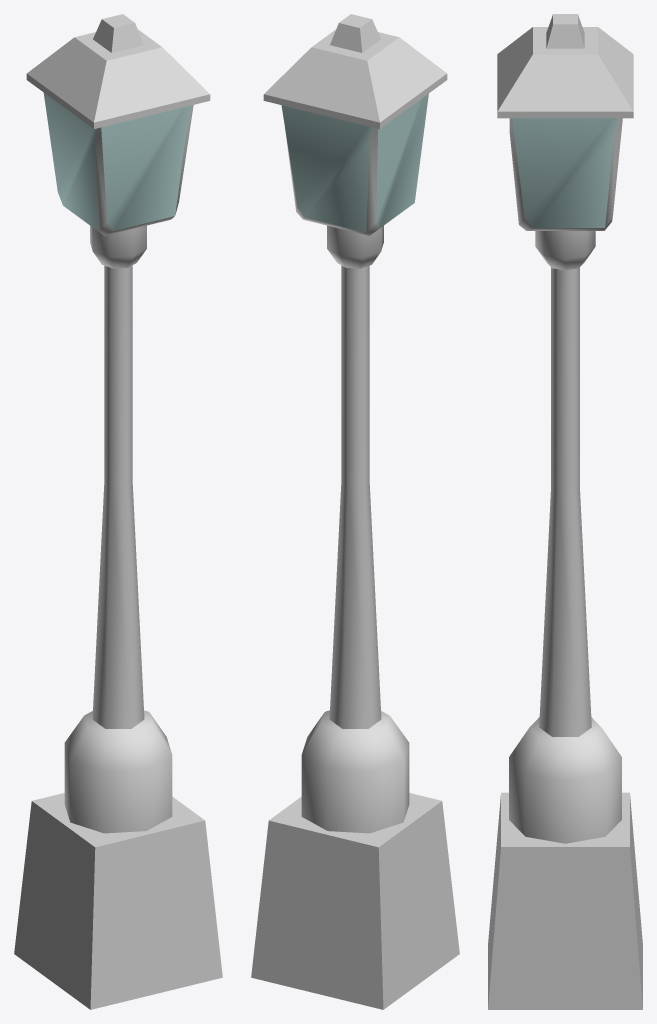
The model's file is lamp.glb.
The picture shows the model from 3 angles, left to right: view 1: azimuth 30°, elevation 25°; view 2: azimuth 150°, elevation 25°; view 3: azimuth 270°, elevation 25°; orthographic projection.
Visible parts, largest first — view 1: ParkLamp; view 2: ParkLamp; view 3: ParkLamp.
Part boxes in pixels (x1=…): ParkLamp: x1=14, y1=14, x2=222, y2=1009; ParkLamp: x1=251, y1=14, x2=459, y2=1009; ParkLamp: x1=488, y1=14, x2=642, y2=1009.
Size of the model in its own units: 0.4831 by 3.3 by 0.4831.
